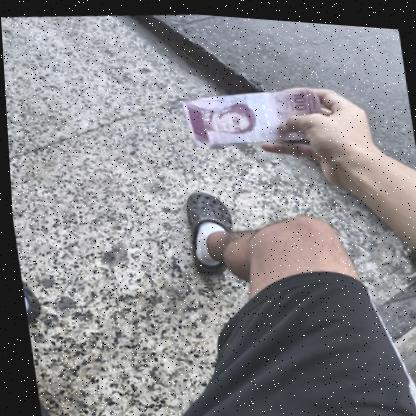one_hundred-front-vef: (178, 74, 326, 154)
